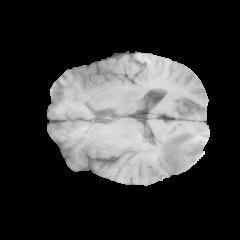glioma: (127, 132, 206, 185)
